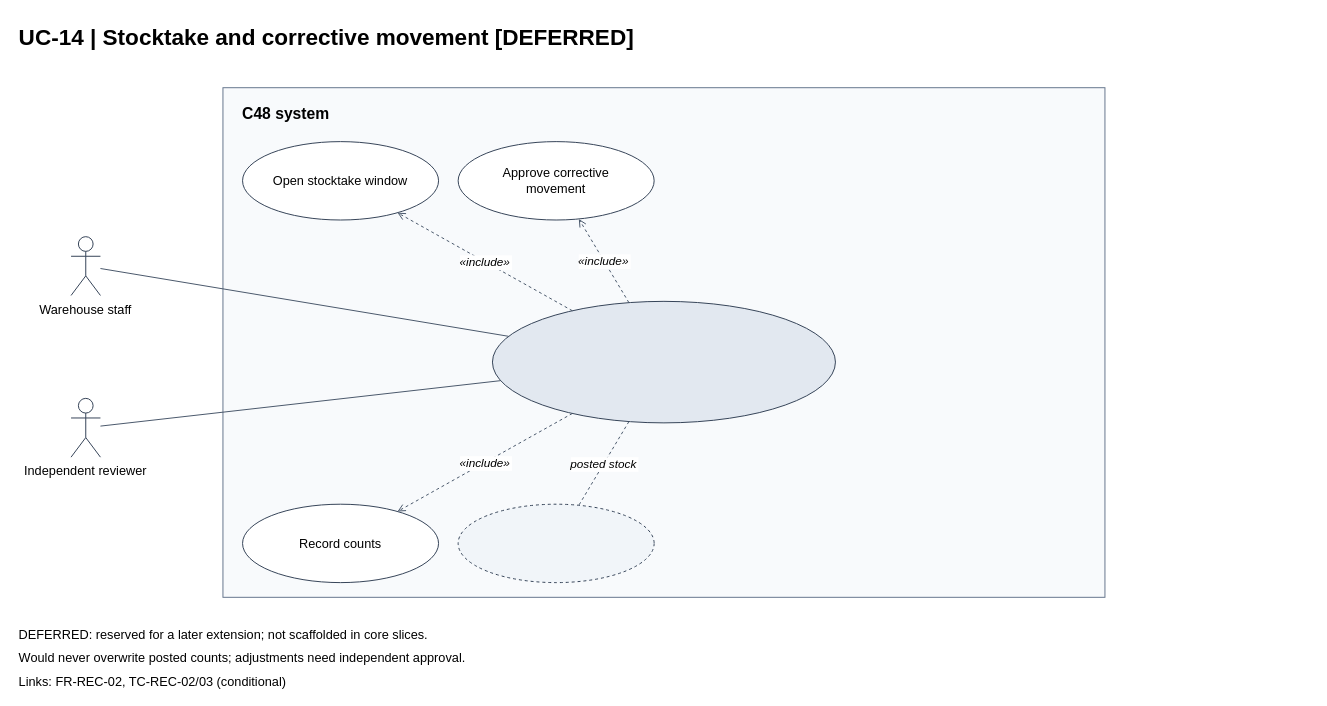
Some shapes in this 1327 by 706 pixel diagram are drawn without their labels. The centre of each missing label's shape, as x and y in pixels:
"UC-12 Count, review, post receipt" belongs at [555,543].
"UC-14 Stocktake and corrective movement" belongs at [663,361].
